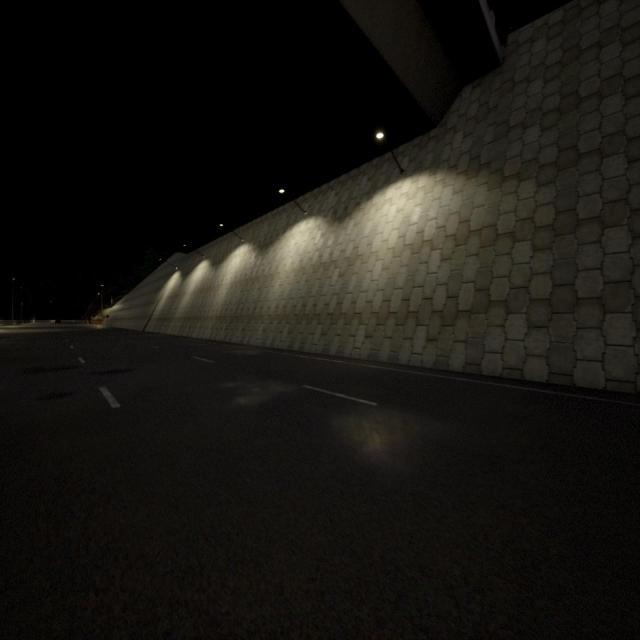Traffic_Signs: (105, 314, 110, 318)
